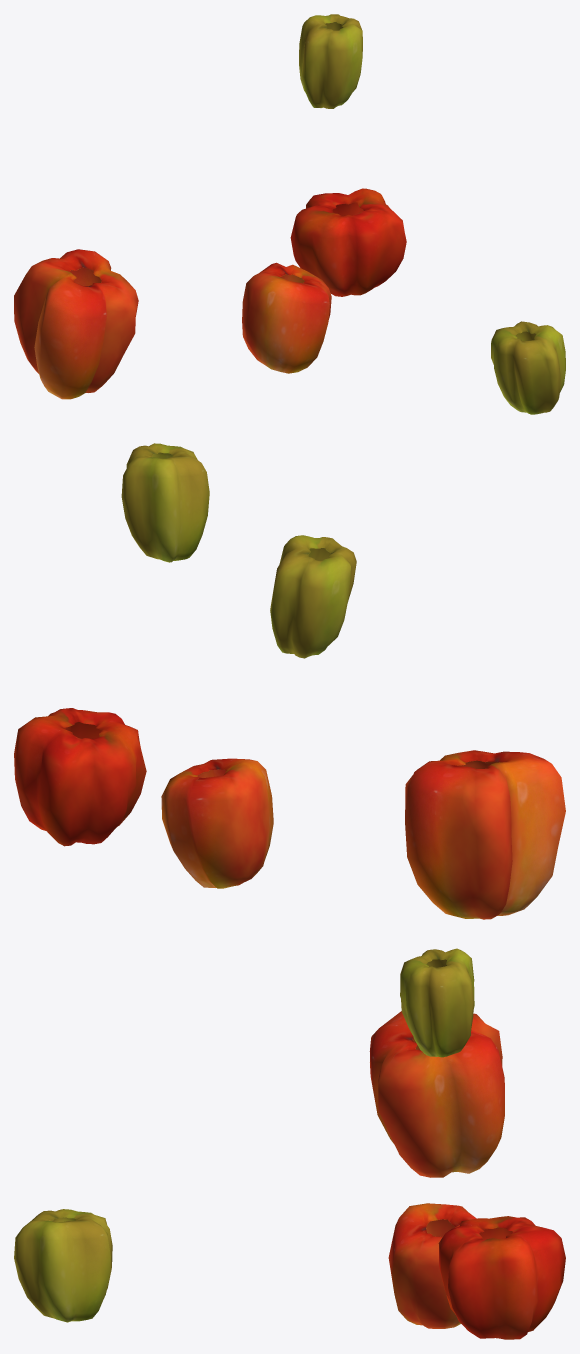
The model's file is VG07_8_fruitonly.dae.
3 views of the same model, one above another, from view 1: azimuth 30°, elevation 25°; view 2: azimuth 150°, elevation 25°; view 3: azimuth 270°, elevation 25° (orthographic). The views are drawn at different scales.
Parts seen in each view (by area): view 1: VG07_017; view 2: VG07_017; view 3: VG07_017.
Part boxes in pixels (x1=…): VG07_017: x1=14, y1=14, x2=565, y2=414; VG07_017: x1=14, y1=443, x2=565, y2=919; VG07_017: x1=14, y1=948, x2=565, y2=1339.
Bounding box in the file's own units: 0.2674 × 0.2772 × 0.2197.
Materials: 3 (3 with a texture image).
